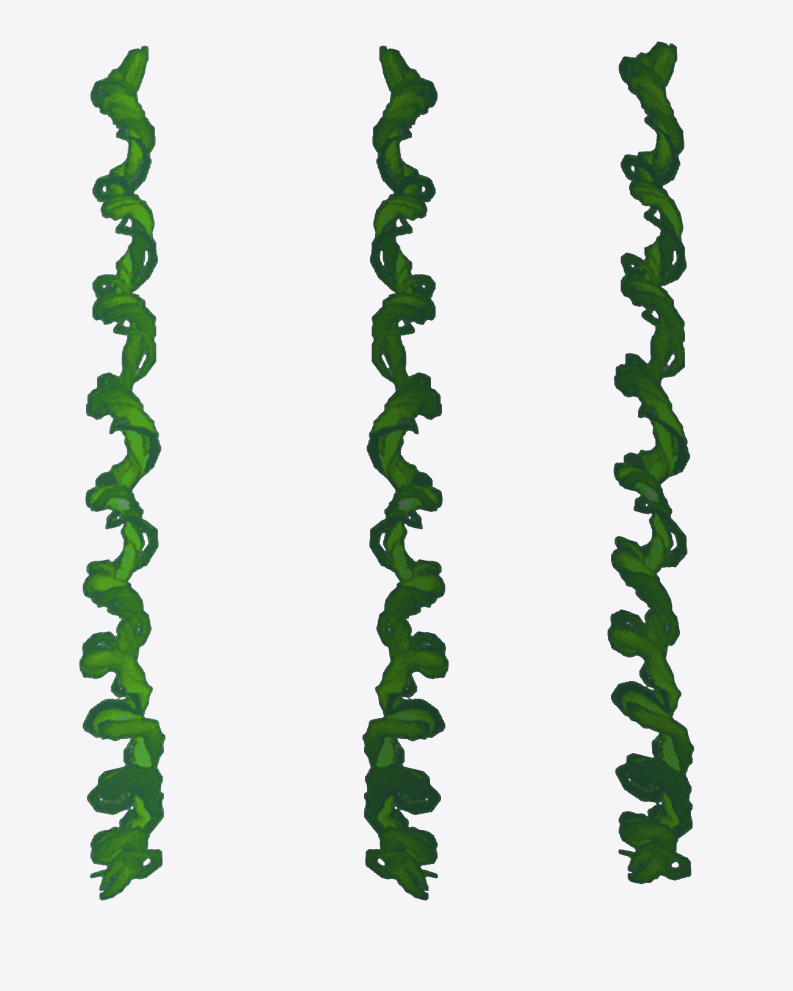
File: ivy_5_dream.glb
The picture shows the model from 3 angles, left to right: view 1: azimuth 30°, elevation 25°; view 2: azimuth 150°, elevation 25°; view 3: azimuth 330°, elevation 25°; orthographic projection.
Visible parts, largest first — view 1: Ivy_5; view 2: Ivy_5; view 3: Ivy_5.
Part boxes in pixels (x1,y1,x2,y2): Ivy_5: [79, 45, 165, 900]; Ivy_5: [362, 45, 448, 900]; Ivy_5: [607, 41, 694, 884].
Size of the model in its own units: 0.751 by 2.78 by 7.23e-08.
1 material, 1 textured.
